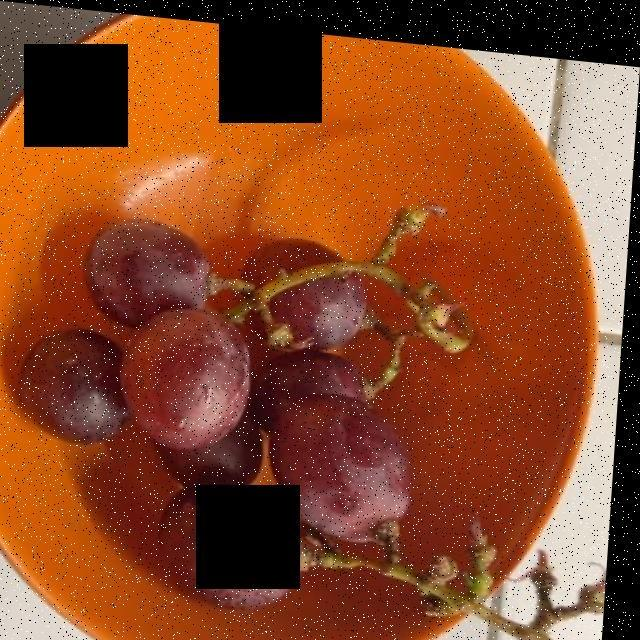grapes: (33, 216, 421, 588)
